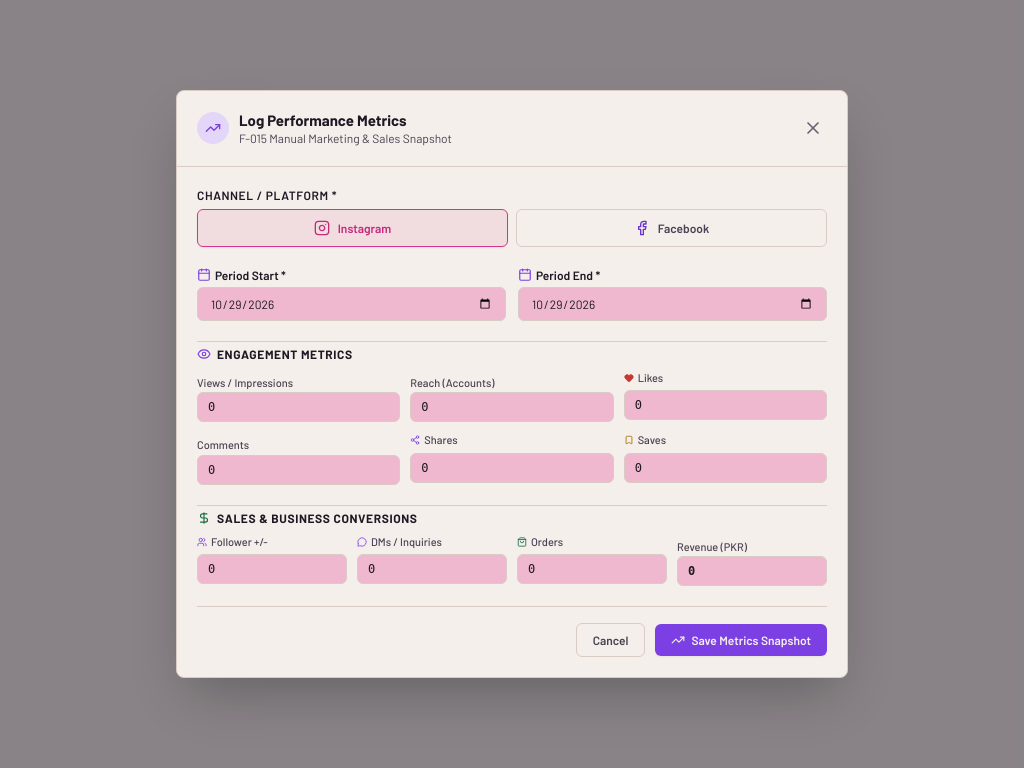
Test case: MetricsEntryModal (Task 48 / F-015) › validates that period_end is not earlier than period_start
Type "2026-10-05" into the date field labelled "Period Start *" at point(352, 304), box 197,287 -> 506,321
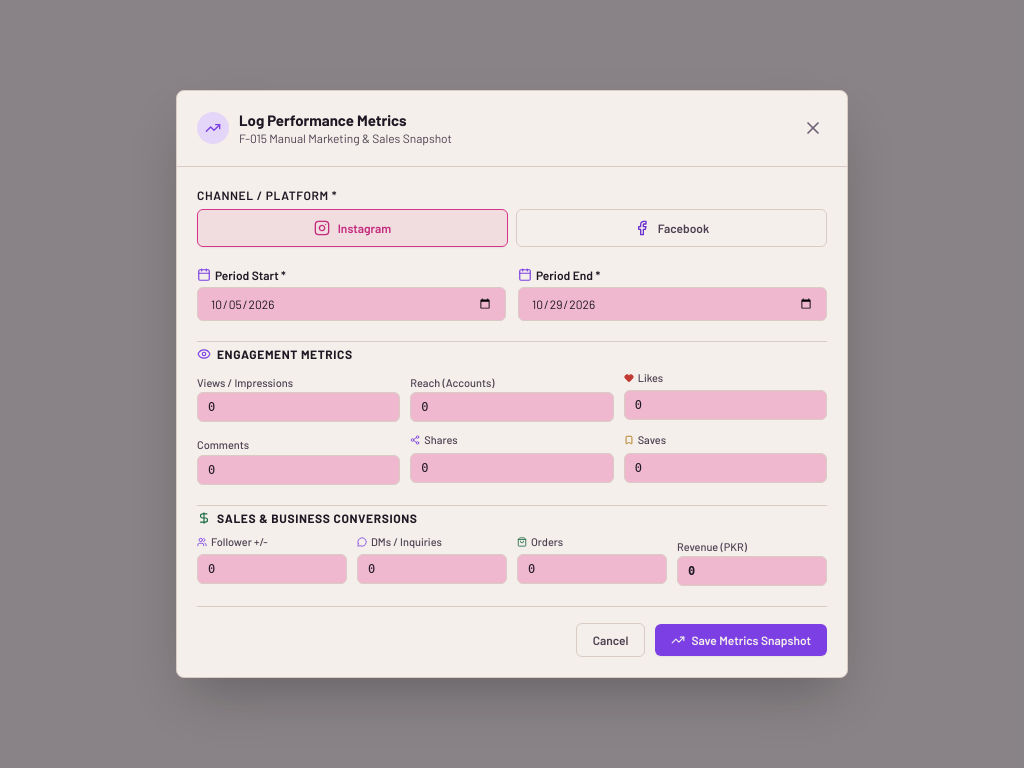
Type "2026-10-01" into the date field labelled "Period End *" at point(672, 304), box 518,287 -> 827,321
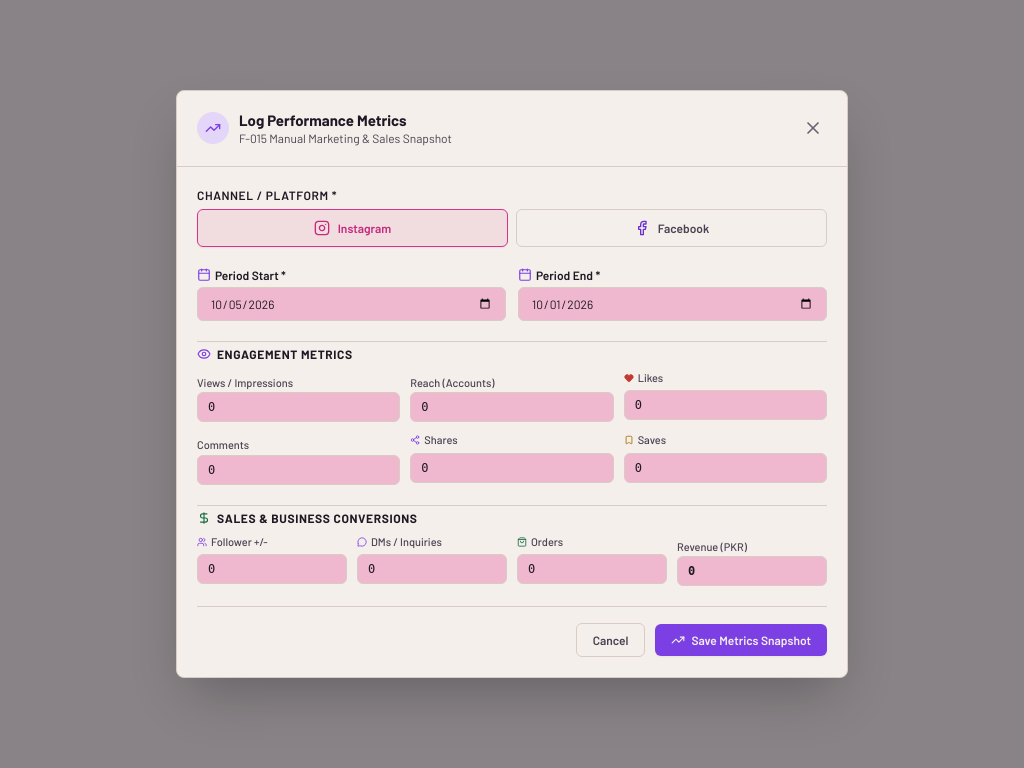
Click the button "Save Metrics Snapshot" at point(741, 640), box 656,624 -> 827,656
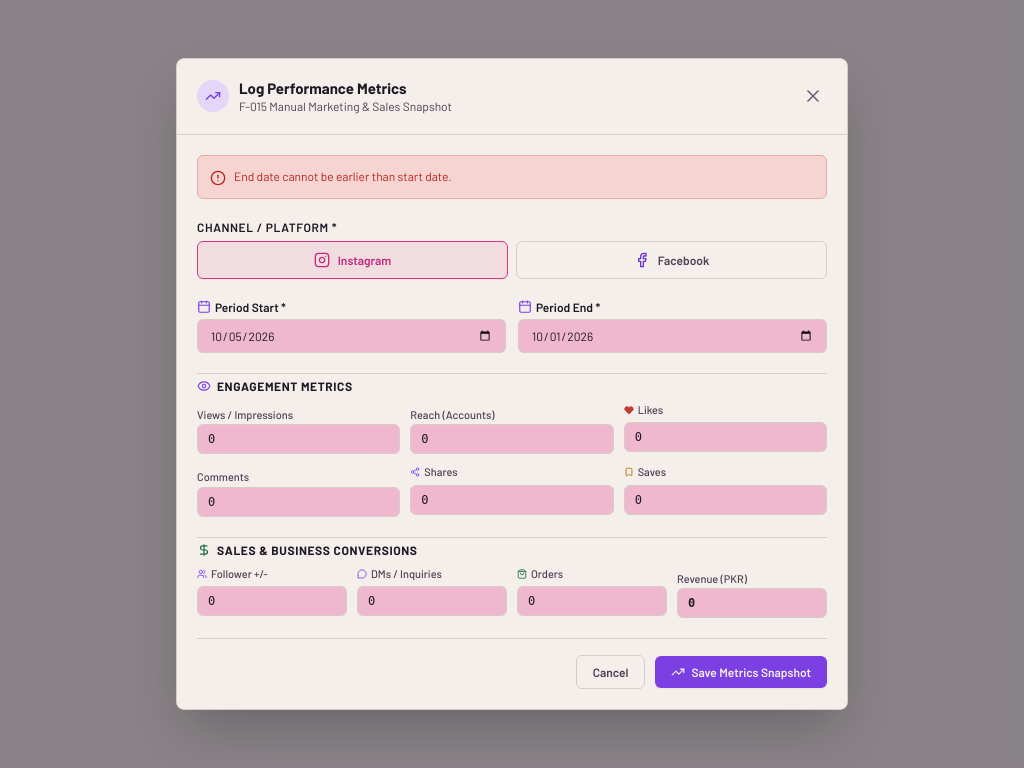
Expected: the text "End date cannot be earlier than start date." is shown, 234,168 -> 452,184
